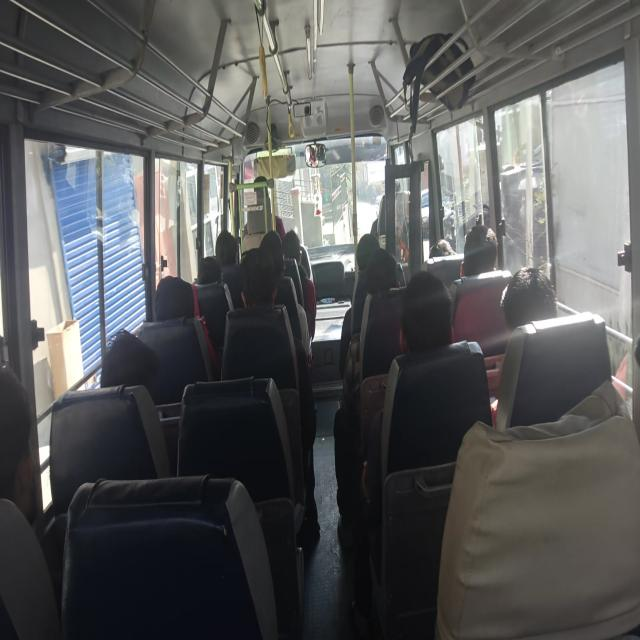person: (1, 357, 62, 566), (100, 322, 160, 408), (398, 270, 455, 358), (506, 257, 563, 334), (242, 253, 282, 323), (461, 217, 499, 277), (156, 277, 195, 329), (366, 253, 402, 295), (267, 232, 290, 276), (217, 237, 244, 274), (280, 224, 308, 258), (201, 255, 227, 288), (423, 230, 455, 256), (357, 228, 382, 250)
